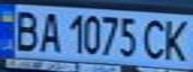0: (81, 11, 103, 55)
1: (63, 11, 84, 54)
5: (118, 15, 142, 58)
7: (100, 12, 121, 56)
A: (36, 9, 63, 53)
B: (9, 7, 42, 53)
C: (139, 16, 172, 61)
K: (160, 16, 193, 64)
